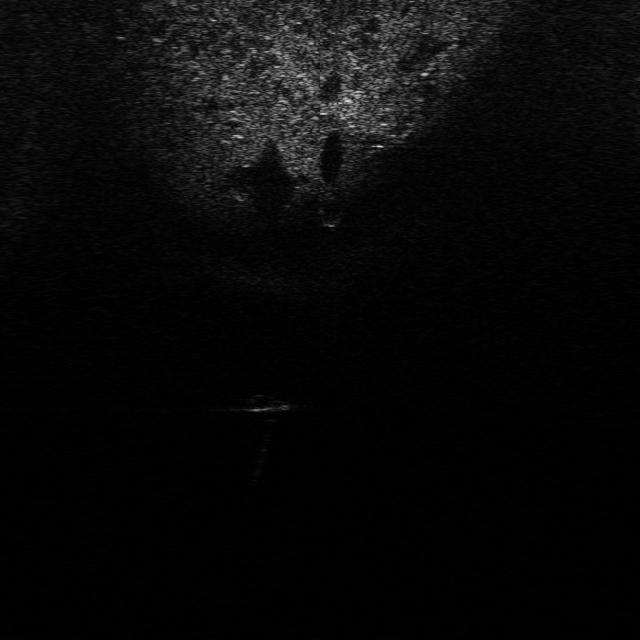ball: (316, 184, 348, 229)
cube: (240, 391, 294, 414)
